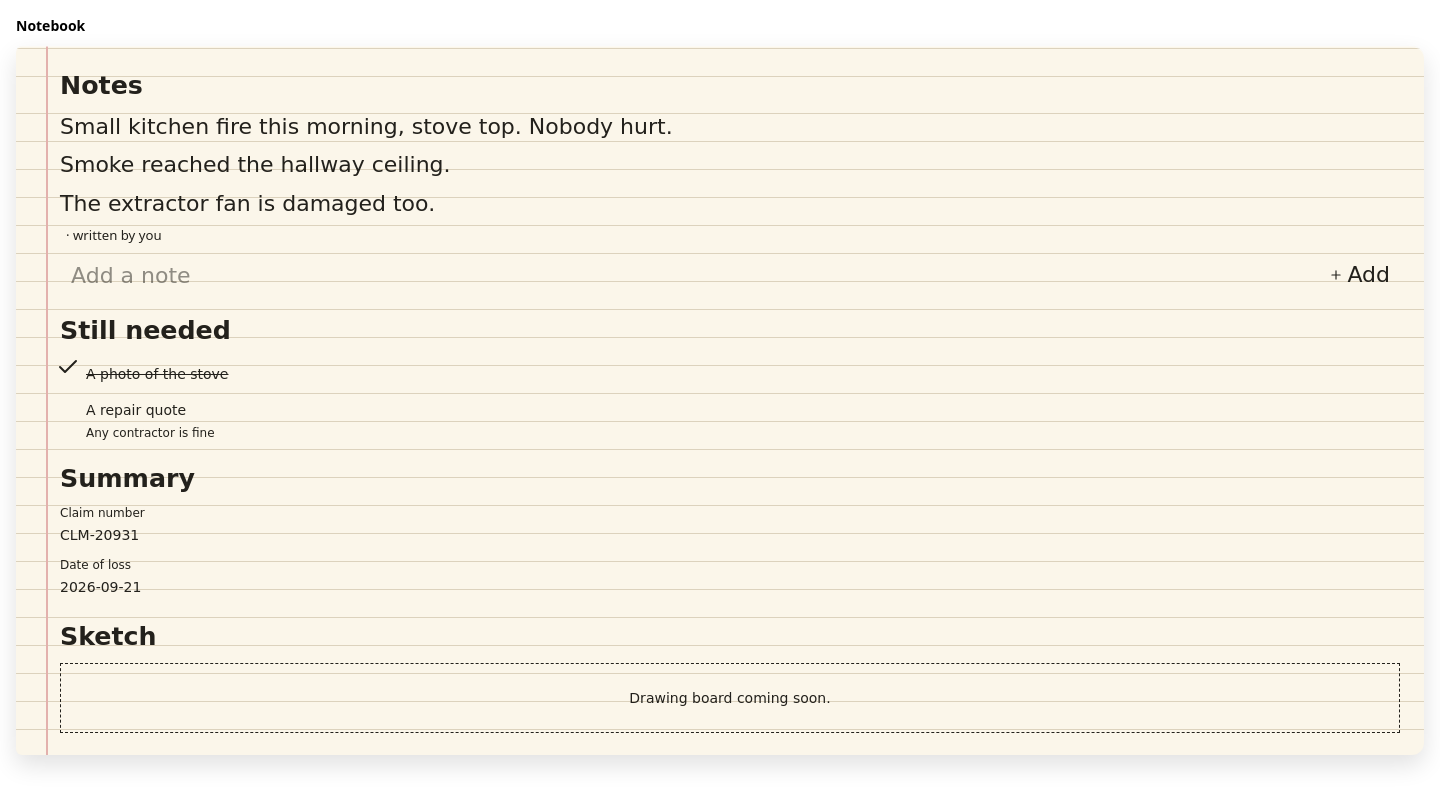
Test: notebook block › ok:false keeps the old value and shows the refusal in plain words
Type "Trying to add" into the field labelled "Add a note" at [686, 275], box x1=60 y1=257 x2=1311 y2=293
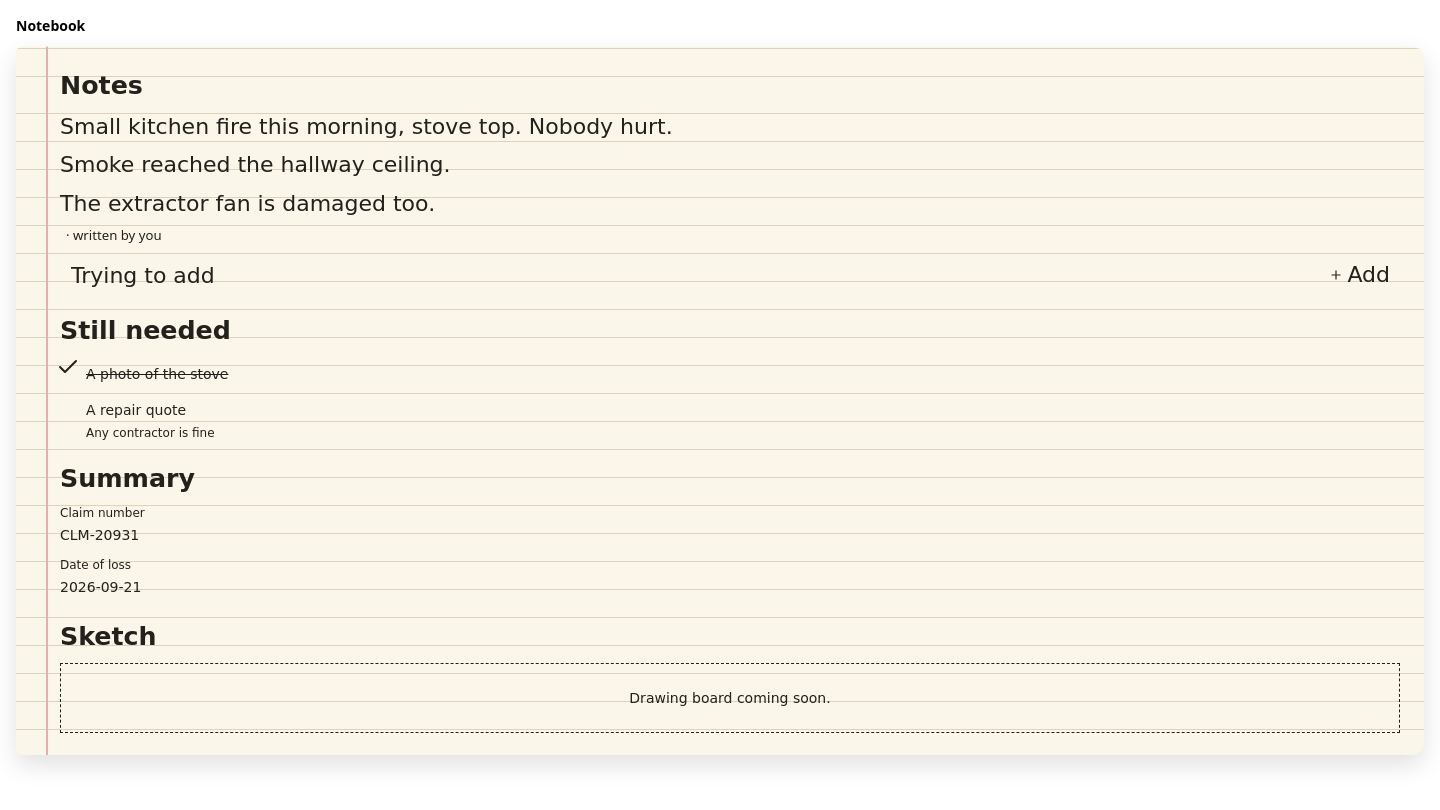
Click the button "Add" at [1360, 275], box x1=1319 y1=261 x2=1400 y2=289
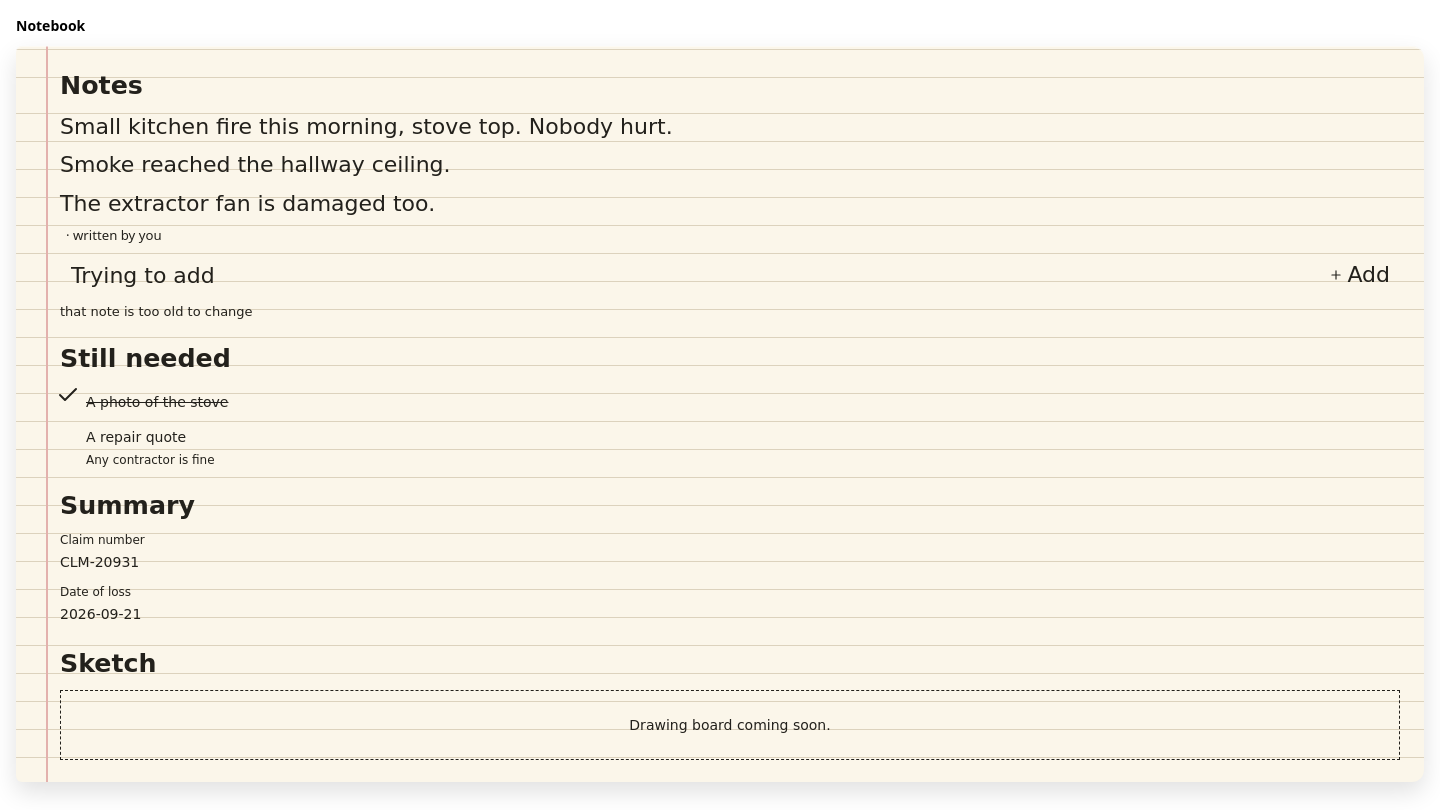
Check: the message reads "that note is too old to change", box x1=60 y1=304 x2=253 y2=319
